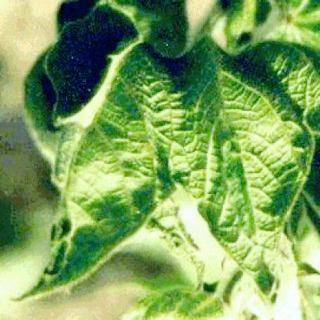curl: (15, 15, 305, 305)
